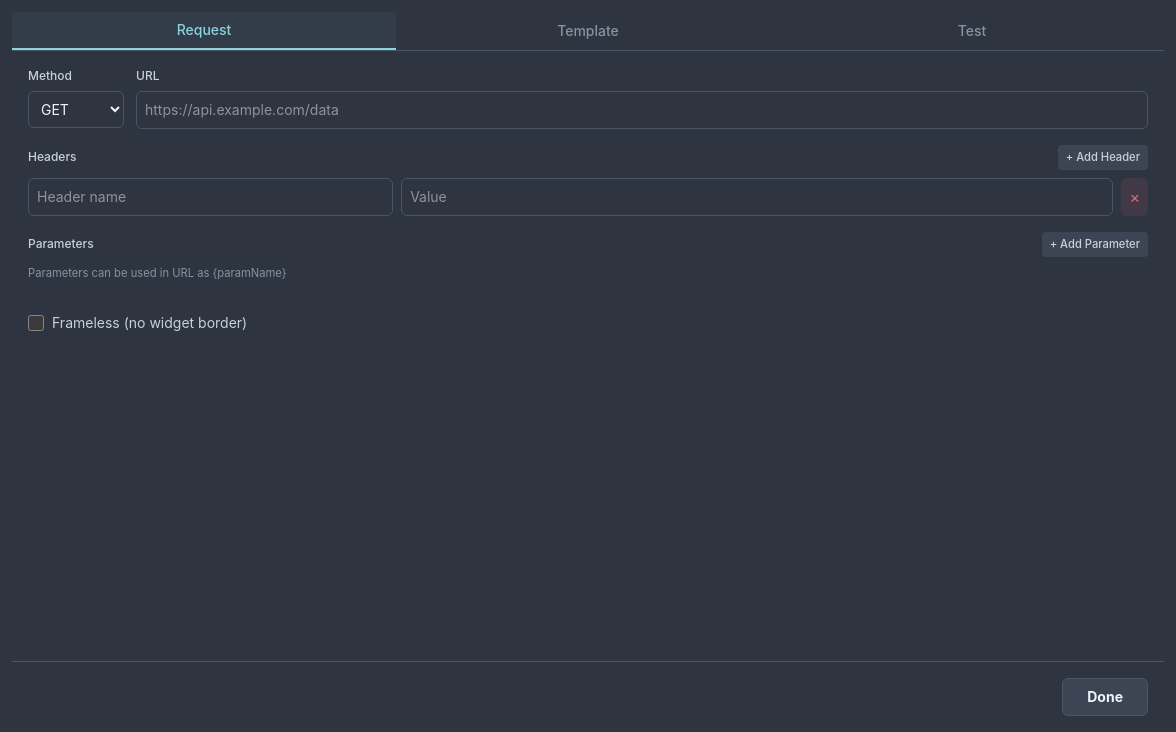
CustomApiBuilder › shows function reference when toggled
Click the button "Template" at (588, 31), box x1=396 y1=12 x2=780 y2=50
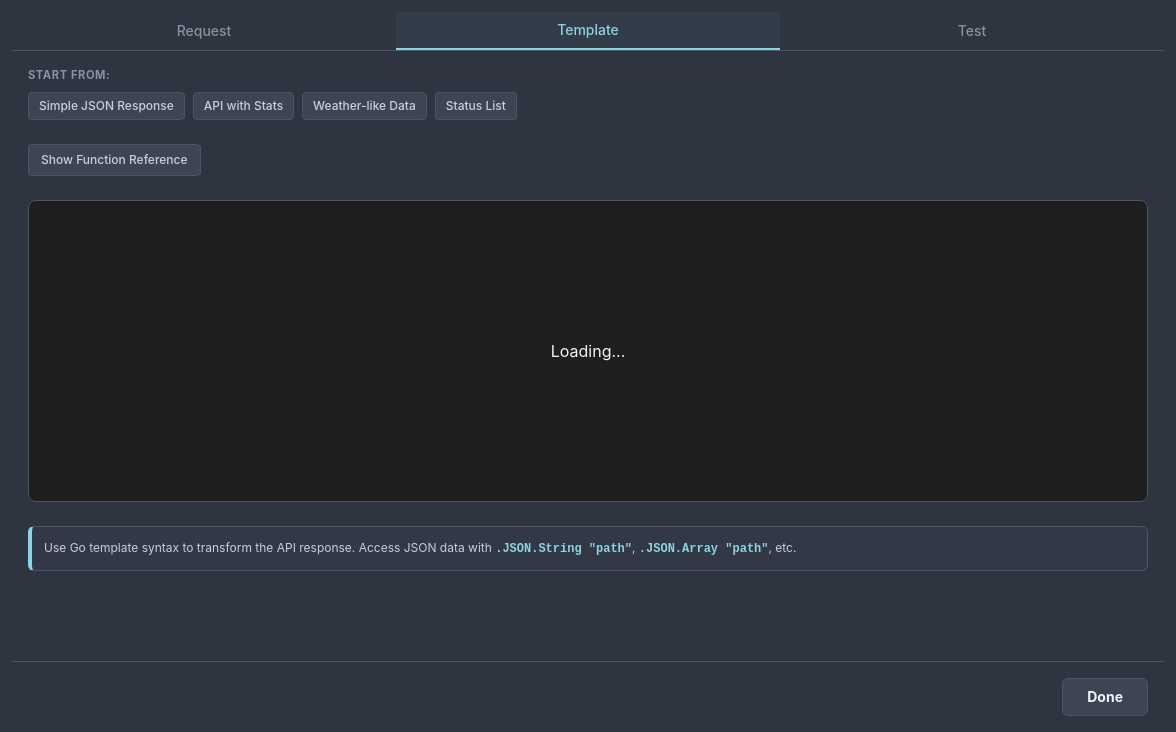
Click the button "Show Function Reference" at (114, 160), box x1=28 y1=144 x2=201 y2=176
(page scrolled)
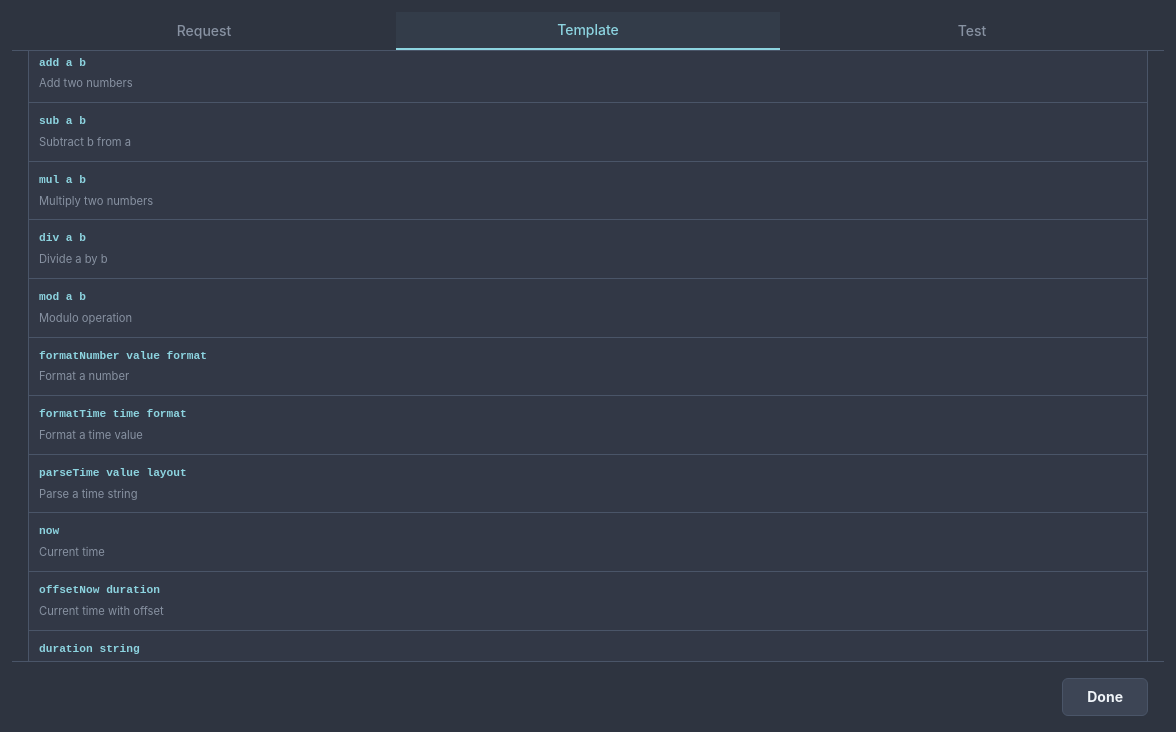
Now the text "formatNumber value format" is shown, box x1=39 y1=350 x2=207 y2=362
